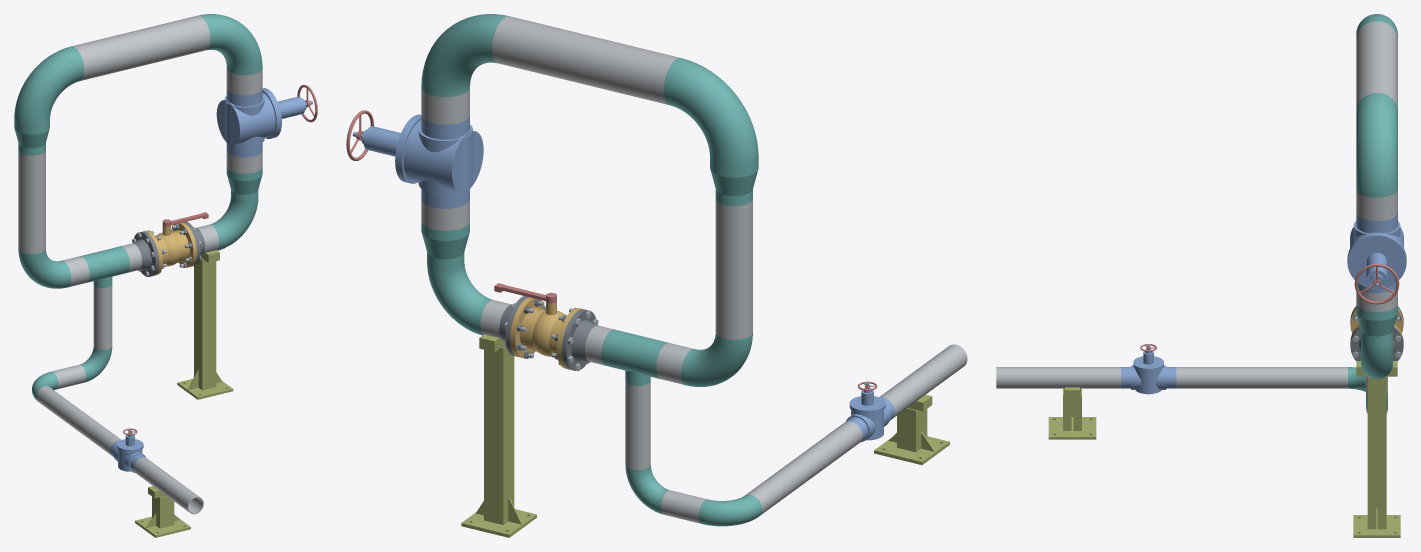
The model's file is step_32.glb.
3 views of the same model, side by side, from view 1: azimuth 30°, elevation 25°; view 2: azimuth 150°, elevation 25°; view 3: azimuth 270°, elevation 25° (orthographic). The views are drawn at different scales.
Visible parts, largest first — view 1: part__8" pipe, top run, 890 long, part__pipe support SP-101, tall, part__8" gate valve body GV-101, part__8" elbow top left, part__6" pipe, left riser, 664 long, part__8" elbow top right, part__4" pipe, inlet to the needle valve, 902 long, part__4" pipe, inlet end, 654 long, part__6" ball valve body BV-101, part__6" elbow bottom left, part__pipe support SP-101, short, part__6" x 4" reducing tee (+14 smaller); view 2: part__8" pipe, top run, 890 long, part__pipe support SP-101, tall, part__8" gate valve body GV-101, part__8" elbow top left, part__6" pipe, left riser, 664 long, part__8" elbow top right, part__4" pipe, inlet to the needle valve, 902 long, part__6" ball valve body BV-101, part__pipe support SP-101, short, part__6" elbow bottom left, part__6" x 4" reducing tee, part__6" elbow bottom right (+14 smaller); view 3: part__8" elbow top right, part__pipe support SP-101, tall, part__4" pipe, inlet to the needle valve, 902 long, part__8" pipe, top run, 890 long, part__4" pipe, inlet end, 654 long, part__8" gate valve bonnet and stem, part__pipe support SP-101, short, part__4" needle valve body NV-101, part__reducer right leg, part__8" gate valve body GV-101, part__6" elbow bottom right, part__8" pipe, right leg above the gate valve, 136 long (+3 smaller).
Part boxes in pixels (x1=…): part__8" pipe, top run, 890 long: x1=72, y1=15, x2=210, y2=80; part__pipe support SP-101, tall: x1=177, y1=250, x2=233, y2=399; part__8" gate valve body GV-101: x1=216, y1=88, x2=279, y2=157; part__8" elbow top left: x1=14, y1=46, x2=84, y2=127; part__6" pipe, left riser, 664 long: x1=18, y1=150, x2=45, y2=253; part__8" elbow top right: x1=198, y1=14, x2=262, y2=75; part__4" pipe, inlet to the needle valve, 902 long: x1=36, y1=386, x2=121, y2=455; part__4" pipe, inlet end, 654 long: x1=134, y1=457, x2=203, y2=514; part__6" ball valve body BV-101: x1=143, y1=222, x2=196, y2=275; part__6" elbow bottom left: x1=18, y1=249, x2=71, y2=288; part__pipe support SP-101, short: x1=135, y1=486, x2=190, y2=537; part__6" x 4" reducing tee: x1=80, y1=246, x2=129, y2=287; part__8" pipe, top run, 890 long: x1=492, y1=16, x2=679, y2=104; part__pipe support SP-101, tall: x1=461, y1=334, x2=536, y2=537; part__8" gate valve body GV-101: x1=398, y1=115, x2=483, y2=208; part__8" elbow top left: x1=663, y1=58, x2=758, y2=167; part__6" pipe, left riser, 664 long: x1=715, y1=199, x2=752, y2=339; part__8" elbow top right: x1=421, y1=14, x2=508, y2=97; part__4" pipe, inlet to the needle valve, 902 long: x1=745, y1=421, x2=862, y2=515; part__6" ball valve body BV-101: x1=510, y1=297, x2=582, y2=369; part__pipe support SP-101, short: x1=874, y1=394, x2=949, y2=464; part__6" elbow bottom left: x1=681, y1=333, x2=752, y2=386; part__6" x 4" reducing tee: x1=601, y1=329, x2=668, y2=385; part__6" elbow bottom right: x1=427, y1=262, x2=492, y2=335; part__8" elbow top right: x1=1356, y1=93, x2=1397, y2=197; part__pipe support SP-101, tall: x1=1353, y1=361, x2=1400, y2=537; part__4" pipe, inlet to the needle valve, 902 long: x1=1176, y1=367, x2=1347, y2=388; part__8" pipe, top run, 890 long: x1=1356, y1=21, x2=1397, y2=110; part__4" pipe, inlet end, 654 long: x1=996, y1=367, x2=1120, y2=388; part__8" gate valve bonnet and stem: x1=1347, y1=234, x2=1406, y2=289; part__pipe support SP-101, short: x1=1048, y1=387, x2=1096, y2=439; part__4" needle valve body NV-101: x1=1121, y1=365, x2=1176, y2=394; part__reducer right leg: x1=1356, y1=304, x2=1397, y2=344; part__8" gate valve body GV-101: x1=1347, y1=213, x2=1406, y2=293; part__6" elbow bottom right: x1=1361, y1=339, x2=1392, y2=379; part__8" pipe, right leg above the gate valve, 136 long: x1=1356, y1=189, x2=1397, y2=220.
Size of the model in its own units: 2102 by 2510 by 2156.
